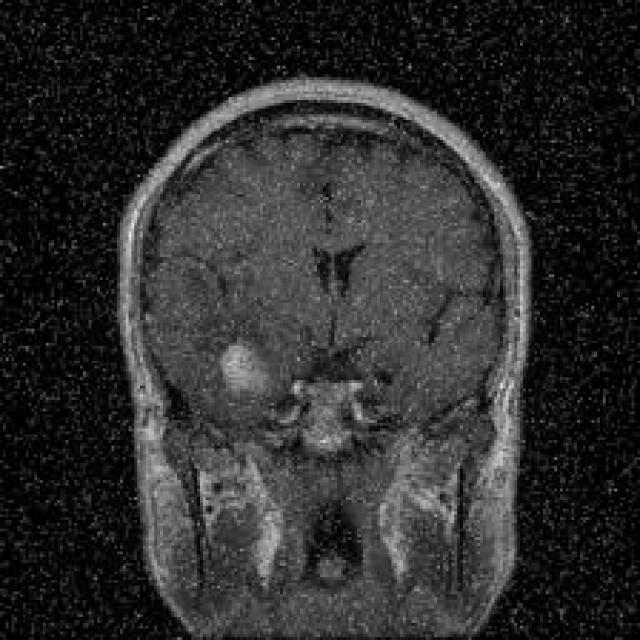meningioma_tumor: (208, 320, 298, 417)
